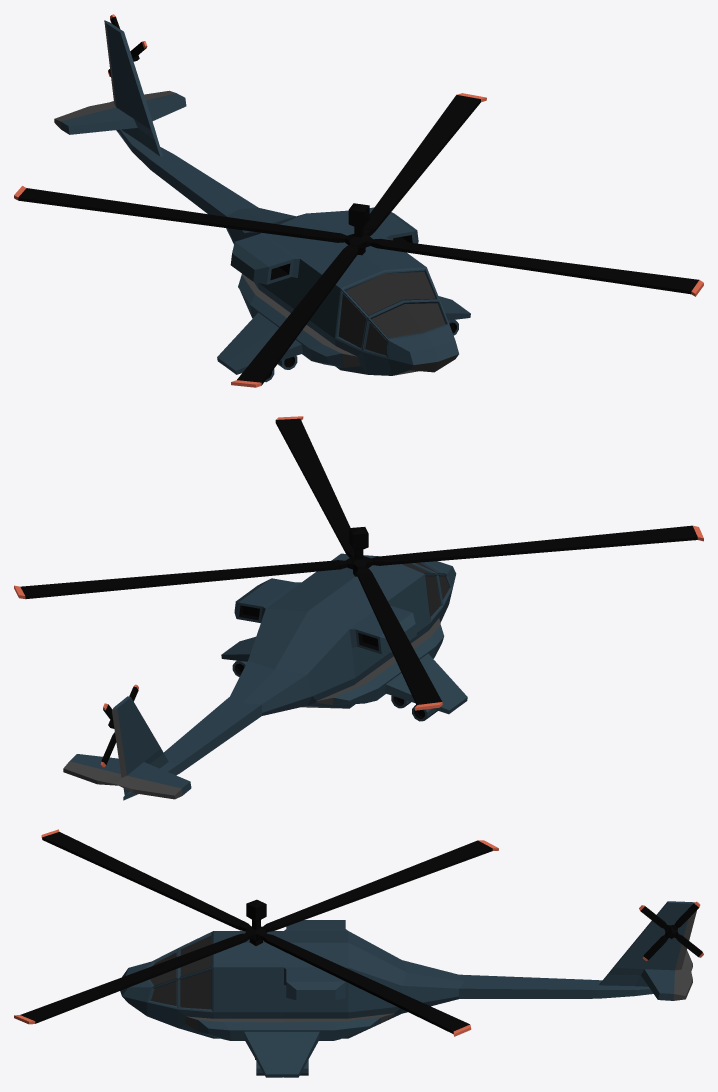
File: Helicopter_Low-Poly.glb
The picture shows the model from 3 angles, top to bottom: view 1: azimuth 30°, elevation 25°; view 2: azimuth 150°, elevation 25°; view 3: azimuth 270°, elevation 25°; orthographic projection. The views are drawn at different scales.
Parts seen in each view (by area): view 1: Helicopter body_Helicopter body_0, Main Rotor_Black_0, Helicopter body_Windows_0, Helicopter body_Metal_0; view 2: Helicopter body_Helicopter body_0, Main Rotor_Black_0, Helicopter body_Metal_0, Helicopter body_Black.001_0, Helicopter body_Windows_0; view 3: Helicopter body_Helicopter body_0, Main Rotor_Black_0, Helicopter body_Windows_0, Helicopter body_Metal_0, Tail Rotor_Black_0.
Part boxes in pixels (x1,y1,x2,y2): Helicopter body_Helicopter body_0: [60, 20, 470, 382]; Main Rotor_Black_0: [18, 95, 698, 385]; Helicopter body_Windows_0: [338, 272, 445, 355]; Helicopter body_Metal_0: [54, 20, 458, 375]; Helicopter body_Helicopter body_0: [70, 553, 467, 800]; Main Rotor_Black_0: [20, 418, 697, 705]; Helicopter body_Metal_0: [63, 618, 440, 799]; Helicopter body_Black.001_0: [235, 605, 424, 718]; Helicopter body_Windows_0: [402, 562, 449, 616]; Helicopter body_Helicopter body_0: [120, 901, 694, 1077]; Main Rotor_Black_0: [20, 832, 492, 1033]; Helicopter body_Windows_0: [150, 936, 211, 1009]; Helicopter body_Metal_0: [185, 903, 696, 1031]; Tail Rotor_Black_0: [640, 903, 702, 959].
Size of the model in its own units: 11.35 by 3.54 by 16.14.
